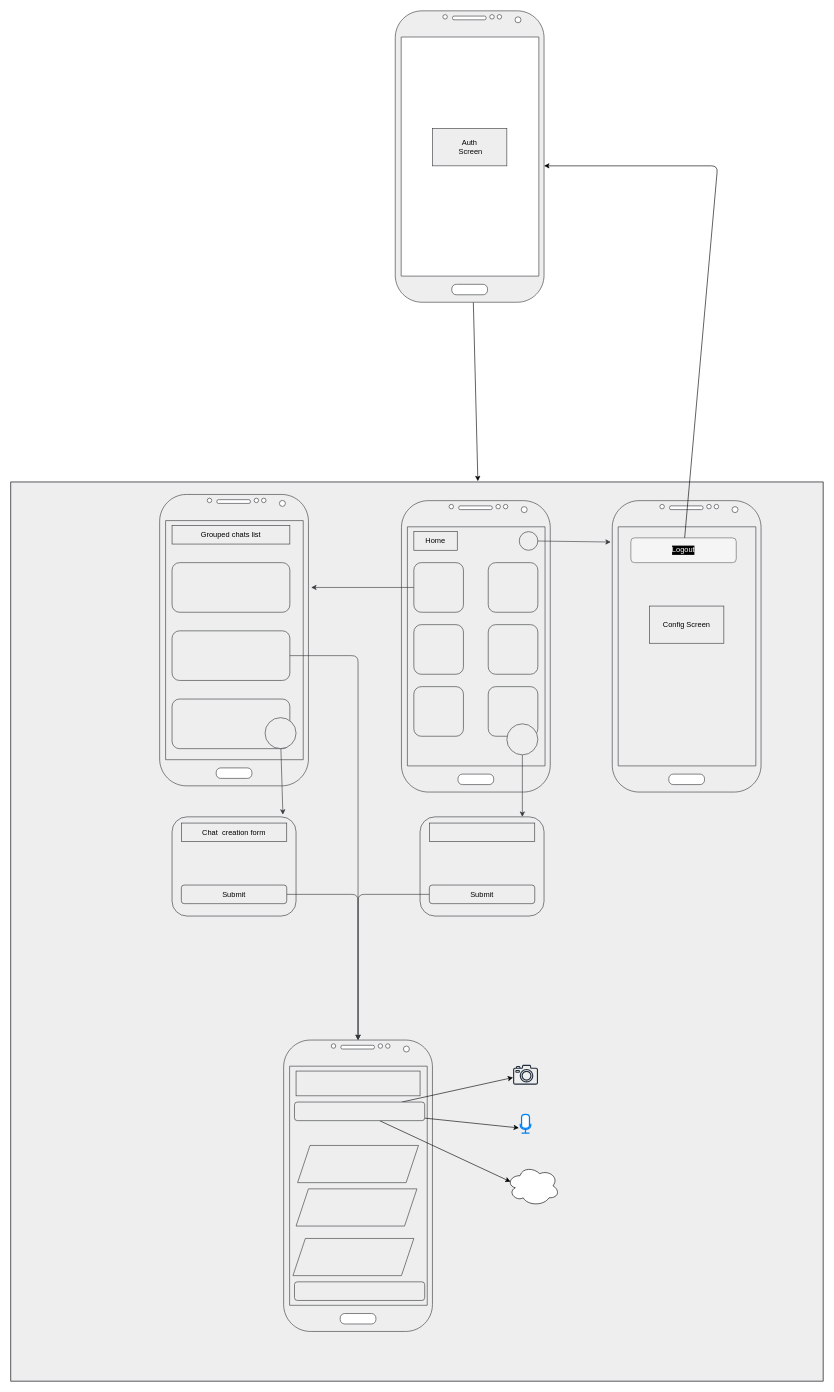
The diagram is 834 pixels wide and 1392 high, and some of its shapes have lost their labels. Here are the shapes that lost their labels. From the top down, the centre of each, then its label:
At point 482,832: "Chat group creation form".
At point 357,1083: "ChatBot Screen".
At point 359,1111: "Plugins".
At point 359,1290: "User Input".
